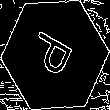P_SE: (27, 27, 83, 83)
